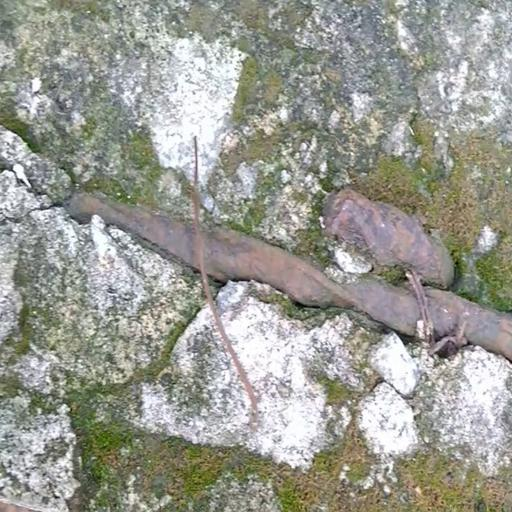spalling: (0, 0, 512, 502)
